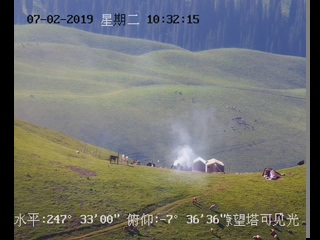smoke: (167, 106, 212, 172)
